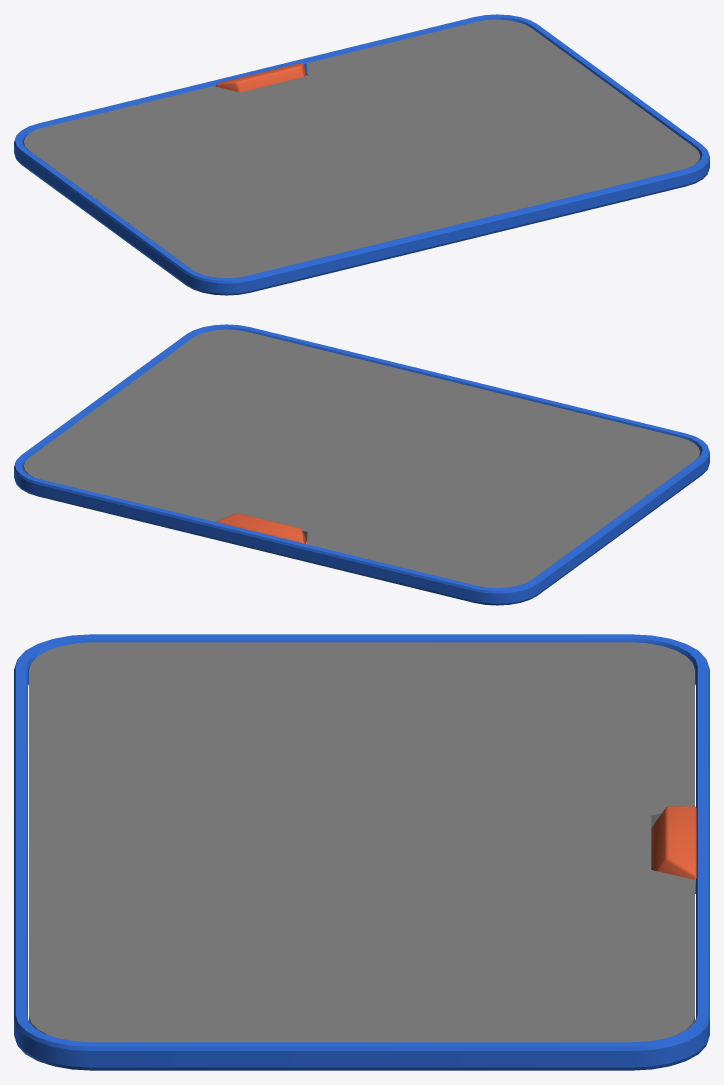
3 views of the same model, one above another, from view 1: azimuth 30°, elevation 25°; view 2: azimuth 150°, elevation 25°; view 3: azimuth 270°, elevation 25° (orthographic). The views are drawn at different scales.
Visible parts, largest first — view 1: Plane.003; view 2: Plane.003; view 3: Plane.003.
Part boxes in pixels (left/top/right/bottom): Plane.003: left=14, top=14, right=709, bottom=295; Plane.003: left=14, top=324, right=709, bottom=605; Plane.003: left=14, top=634, right=709, bottom=1070.
Size of the model in its own units: 2444 by 89.88 by 1738.
